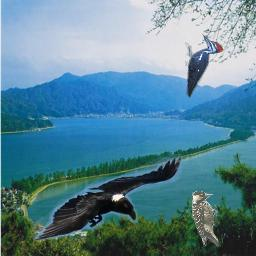Crow: (33, 154, 182, 241)
Woodpecker: (185, 33, 223, 100), (192, 191, 221, 248)
